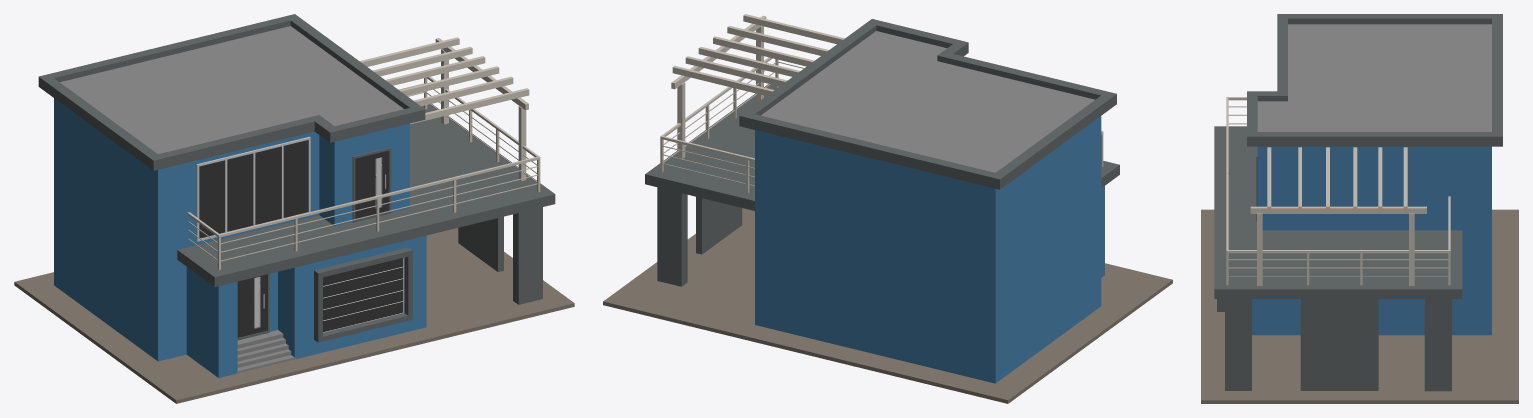
The model's file is building-house-01-color01.glb.
The picture shows the model from 3 angles, left to right: view 1: azimuth 30°, elevation 25°; view 2: azimuth 150°, elevation 25°; view 3: azimuth 270°, elevation 25°; orthographic projection. The views are drawn at different scales.
Visible parts, largest first — view 1: Building_House_01_color01; view 2: Building_House_01_color01; view 3: Building_House_01_color01.
Boxes of the visible parts, box(x1,y1,x2,y2) form: Building_House_01_color01: box(14, 14, 574, 403); Building_House_01_color01: box(603, 14, 1172, 403); Building_House_01_color01: box(1201, 14, 1518, 403).
Bounding box in the file's own units: 17.89 × 9.05 × 12.6.
Materials: 1 (1 with a texture image).
